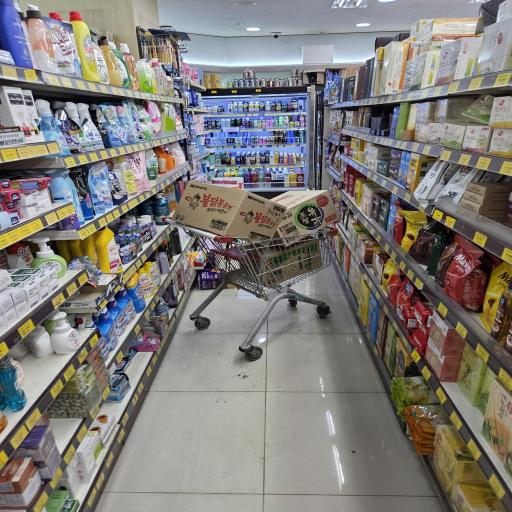fully_cart: (170, 179, 364, 369)
